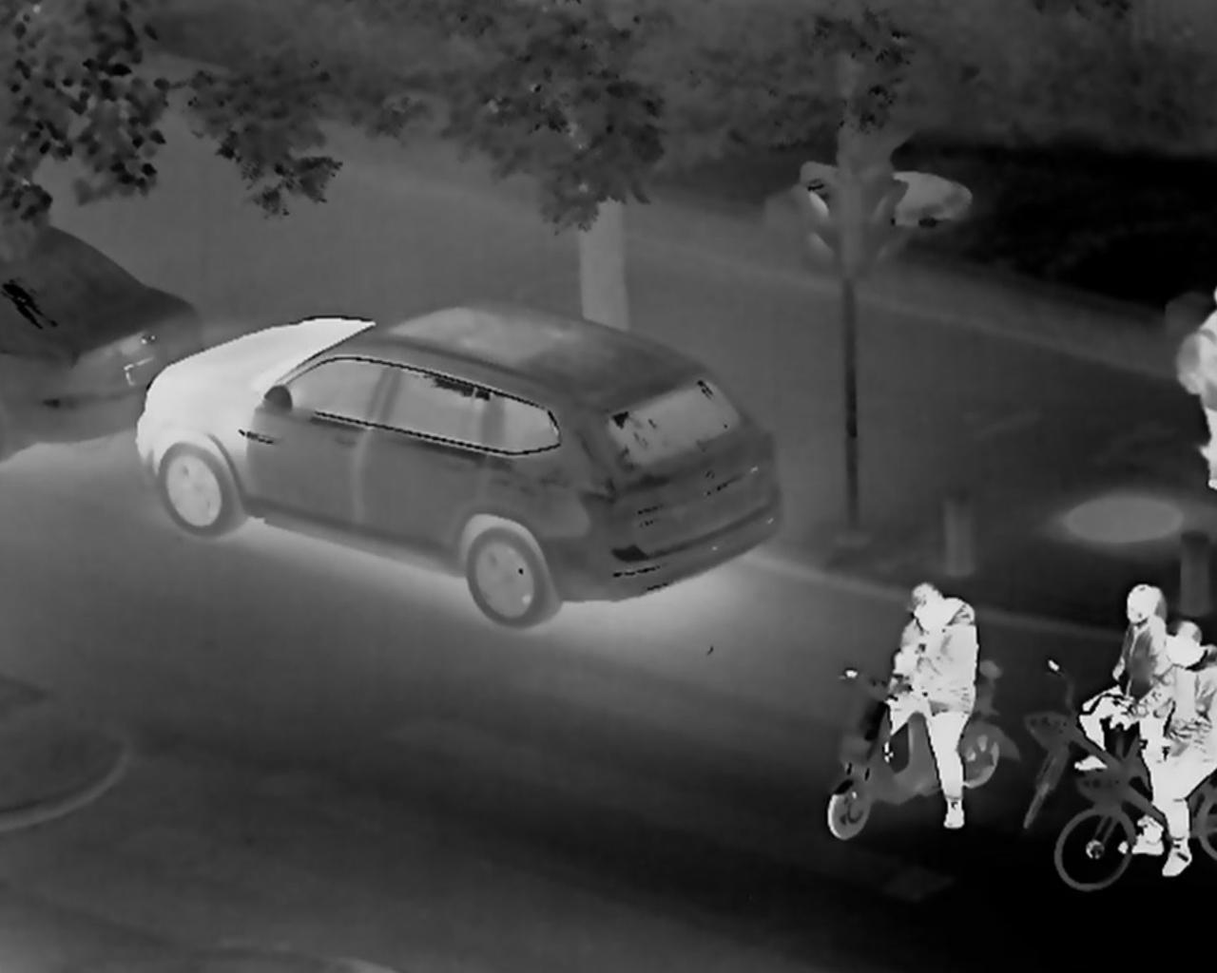person: (1109, 617, 1216, 881), (880, 577, 980, 831), (1075, 582, 1165, 826)
